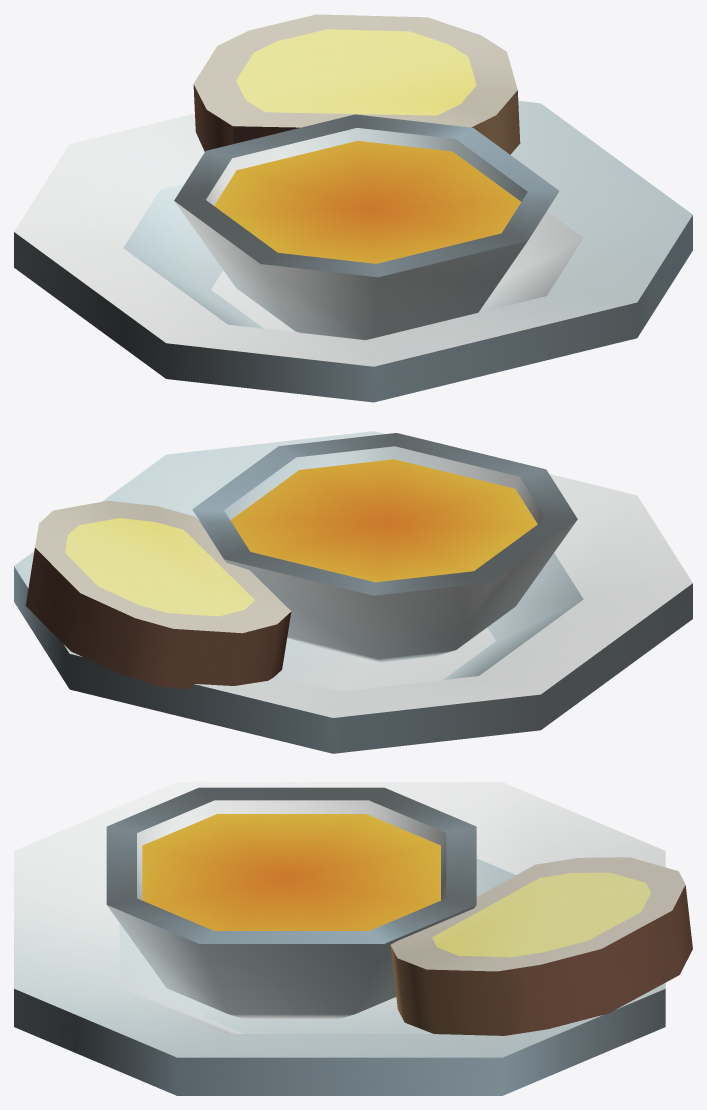
File: soup_dish.fbx
The picture shows the model from 3 angles, top to bottom: view 1: azimuth 30°, elevation 25°; view 2: azimuth 150°, elevation 25°; view 3: azimuth 270°, elevation 25°; orthographic projection. The views are drawn at different scales.
Visible parts, largest first — view 1: soup_dish; view 2: soup_dish; view 3: soup_dish.
Part boxes in pixels (x1,y1,x2,y2): soup_dish: (14,14,692,402); soup_dish: (14,431,692,753); soup_dish: (14,782,692,1095).
Size of the model in its own units: 51.71 by 14.06 by 53.88.
